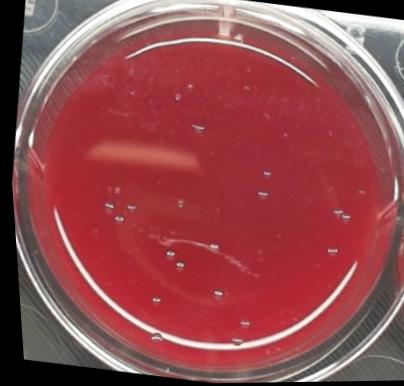pdpiscicida: (249, 186, 269, 205), (168, 195, 187, 213), (204, 289, 221, 306), (257, 167, 273, 184), (158, 248, 175, 264), (120, 201, 137, 217), (97, 201, 113, 217), (203, 240, 218, 255), (168, 260, 183, 275), (233, 317, 248, 332), (168, 91, 182, 107), (108, 213, 123, 227)
